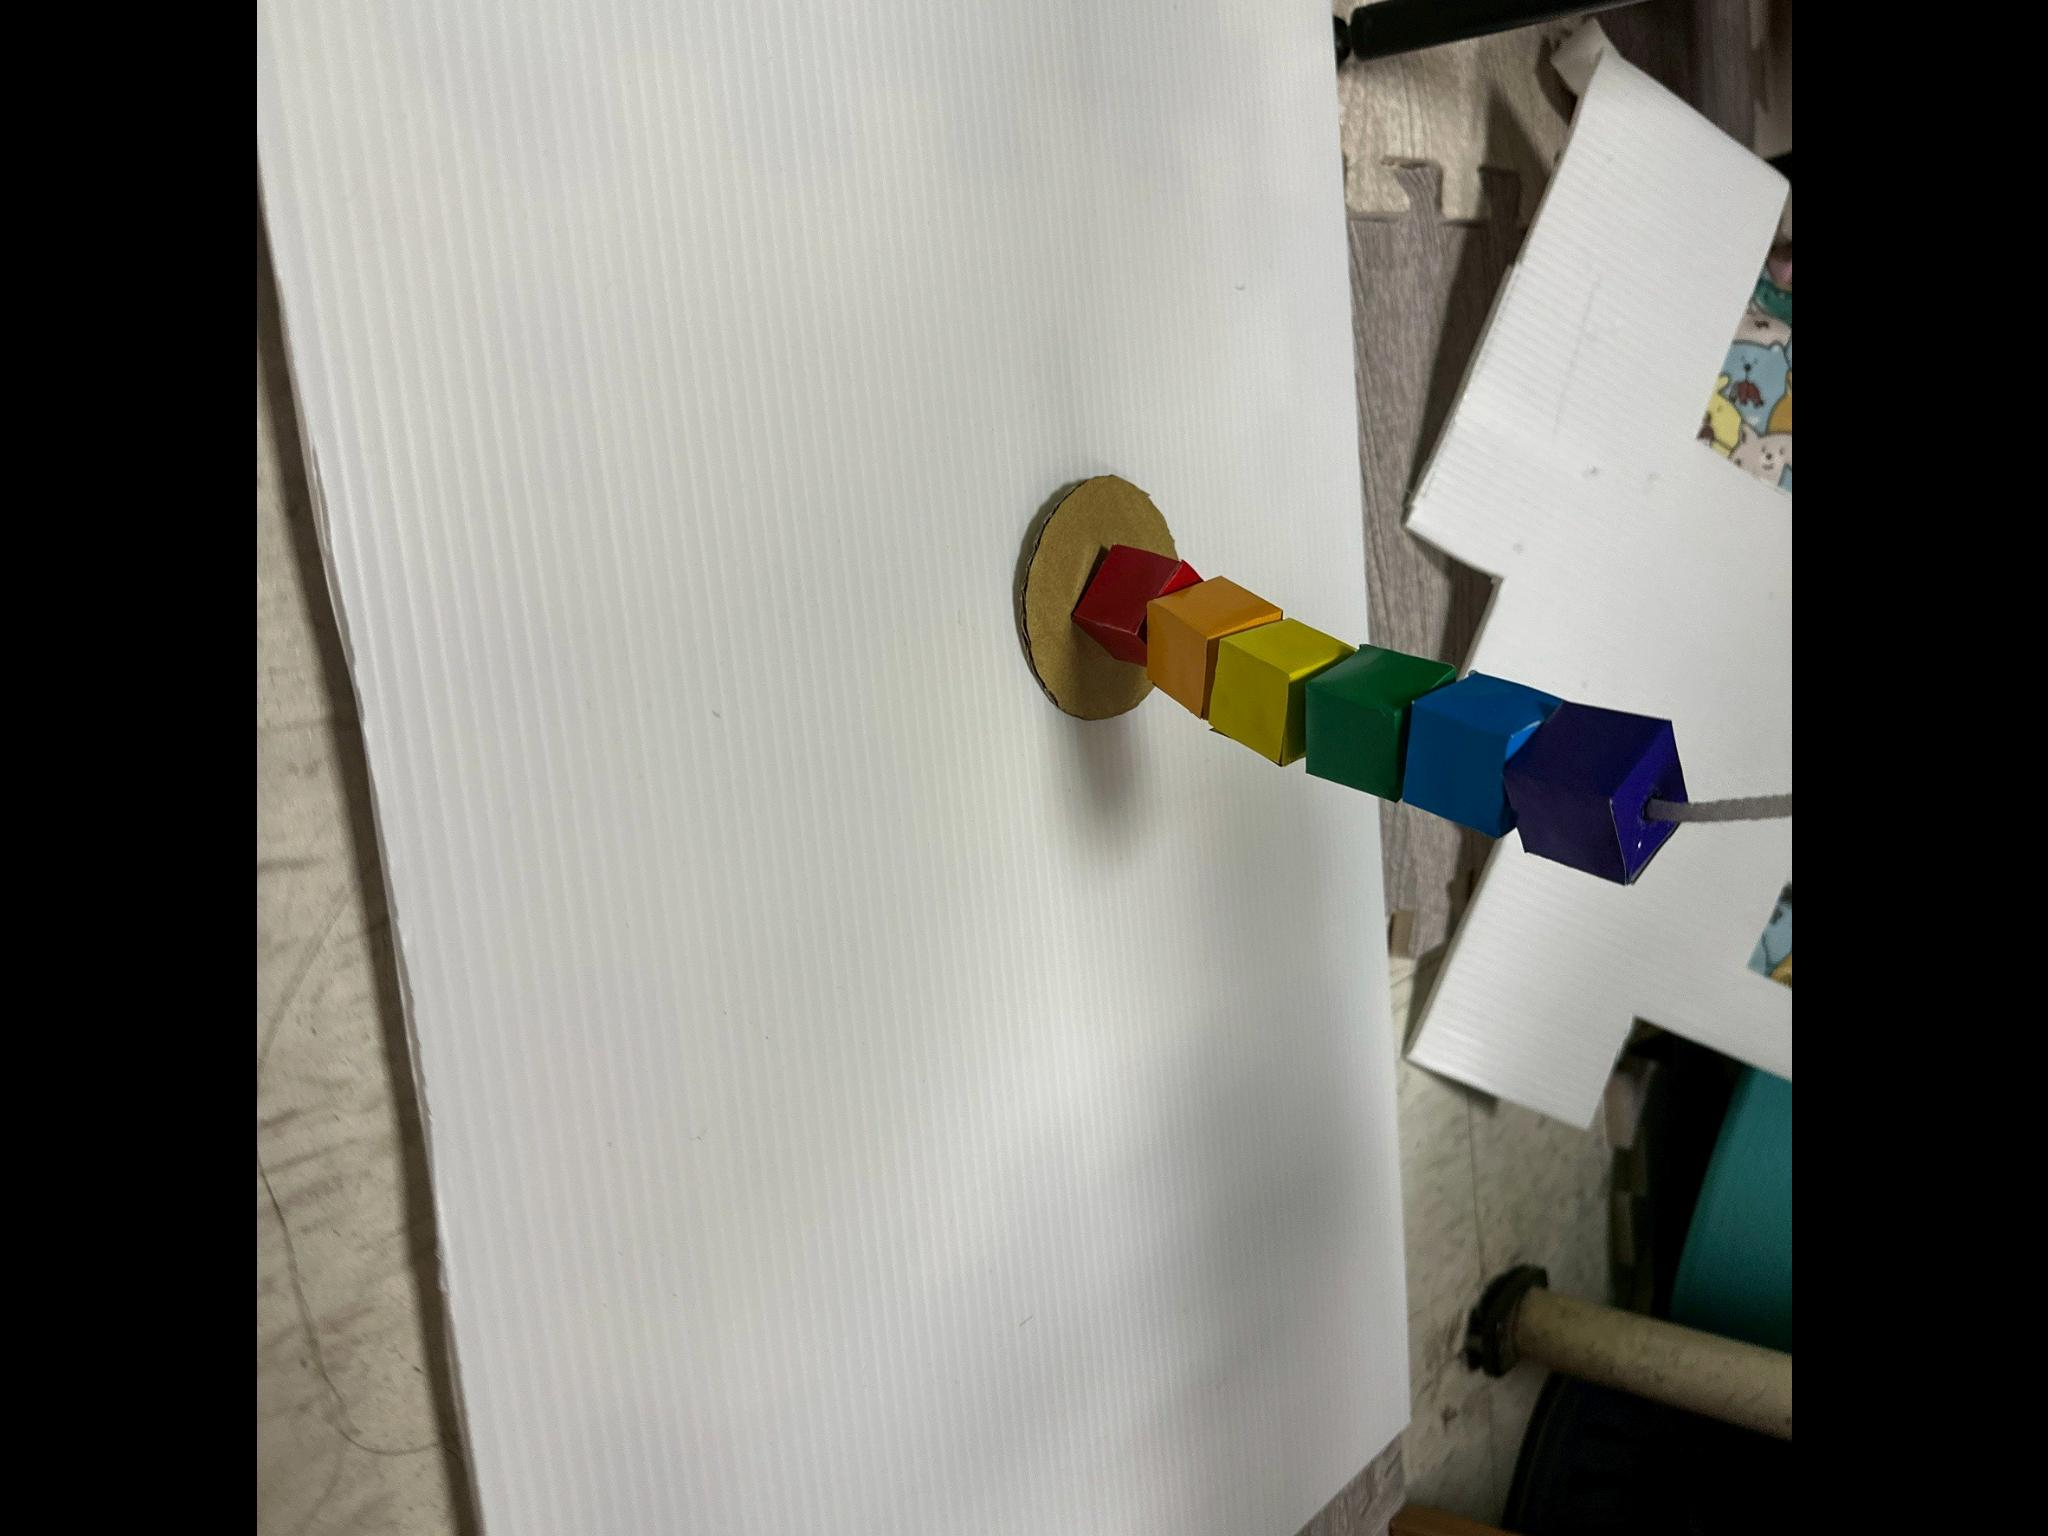base: (1022, 476, 1176, 720)
cube: (1503, 702, 1685, 884), (1400, 673, 1563, 836), (1305, 645, 1455, 802), (1205, 613, 1355, 763), (1145, 578, 1282, 716), (1071, 545, 1200, 666)
